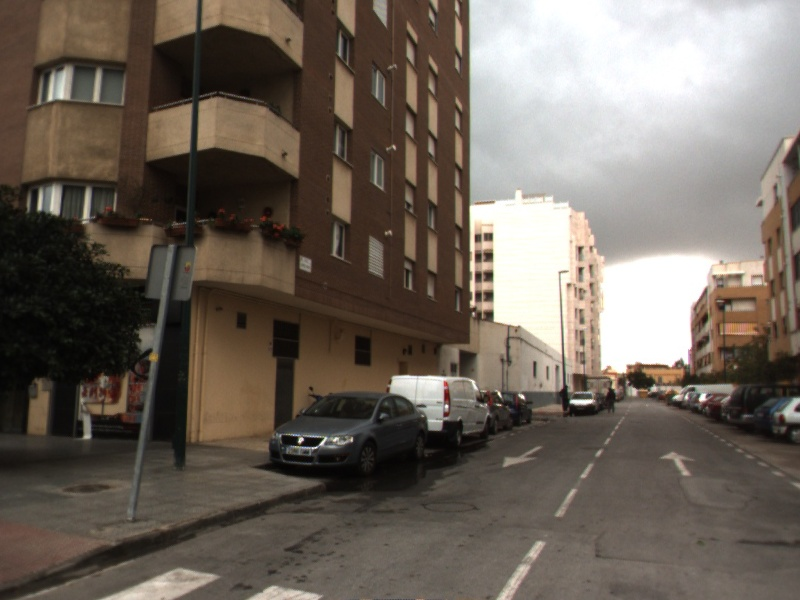STRAIGHT: (657, 449, 699, 478)
